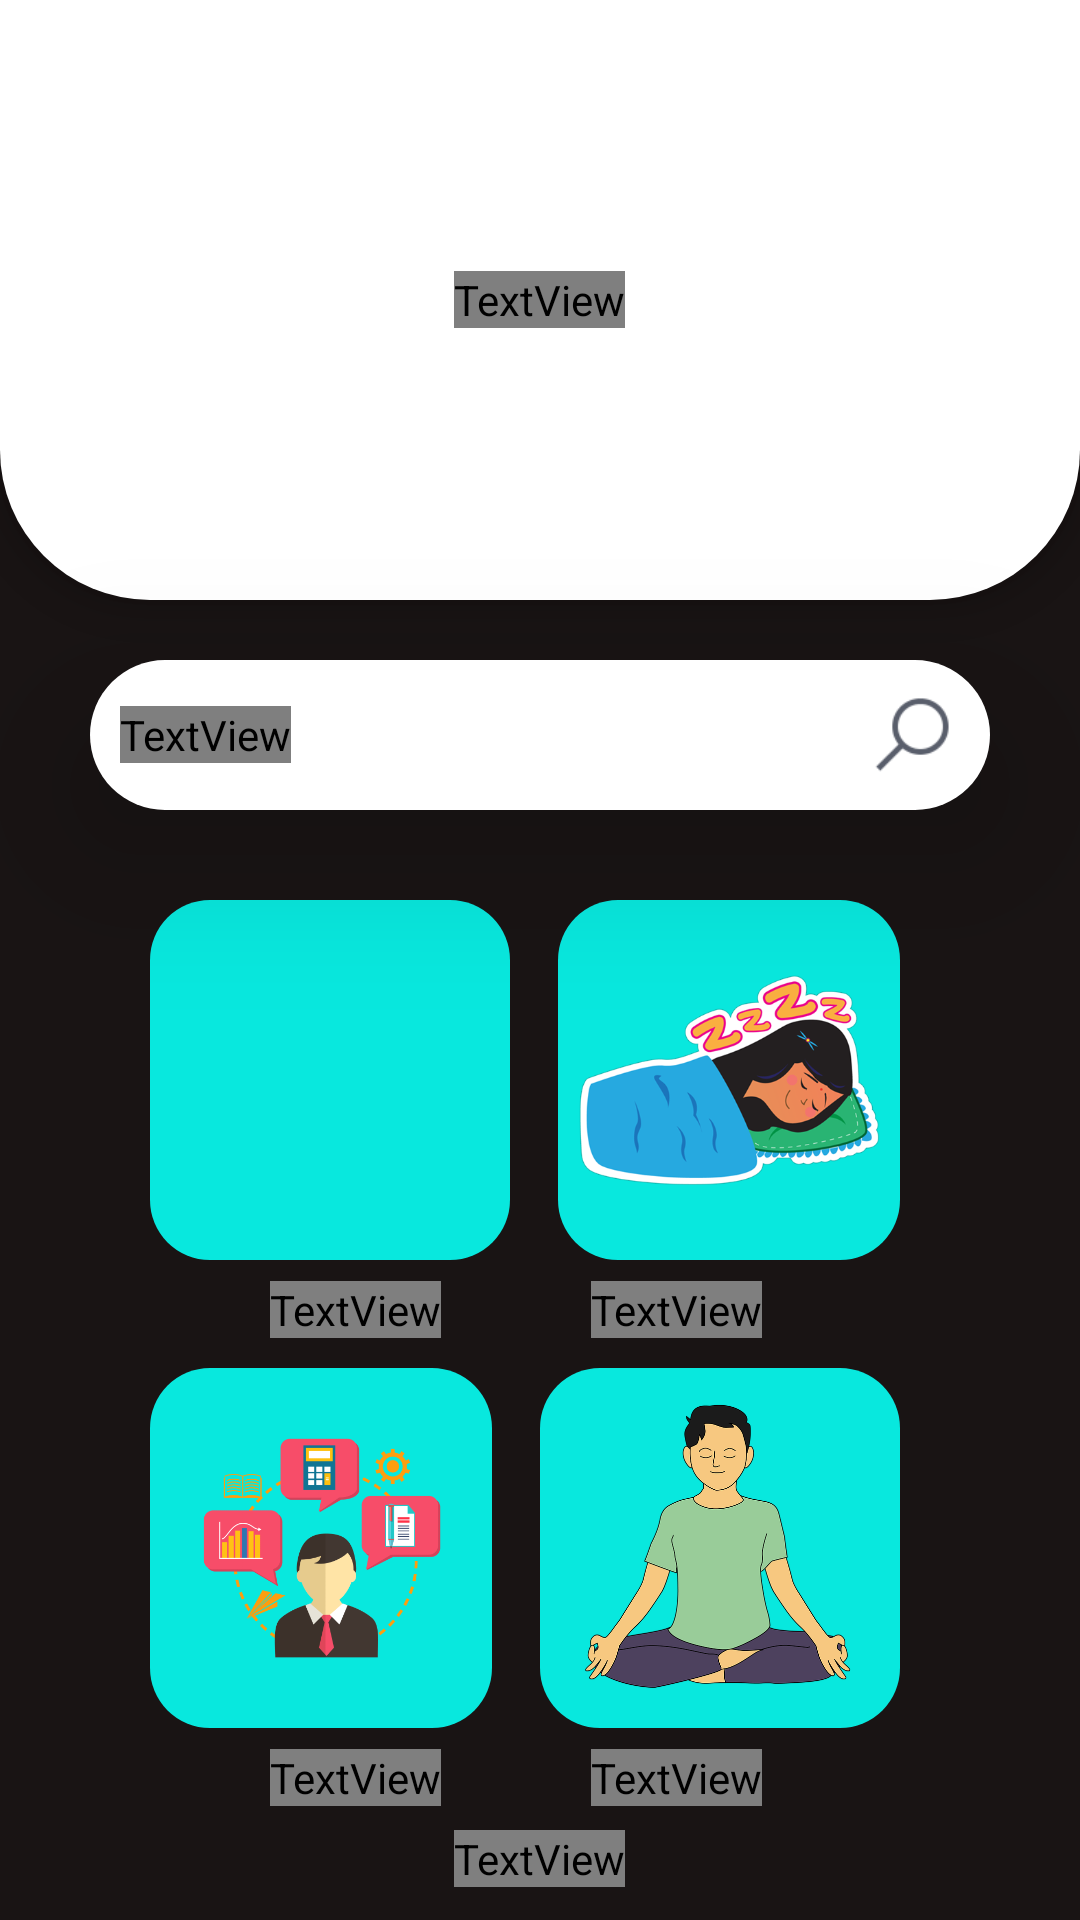

Icon click points for this 1080px x 1920px phone screenshot, format [x,y]:
focus: [720,1548]
sleep: [729,1080]
work: [322,1548]
